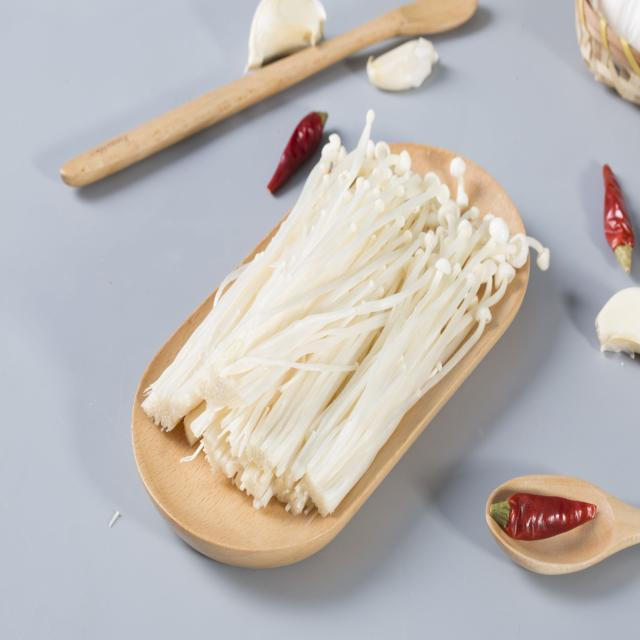Flammulina velutiper: (143, 109, 549, 521)
